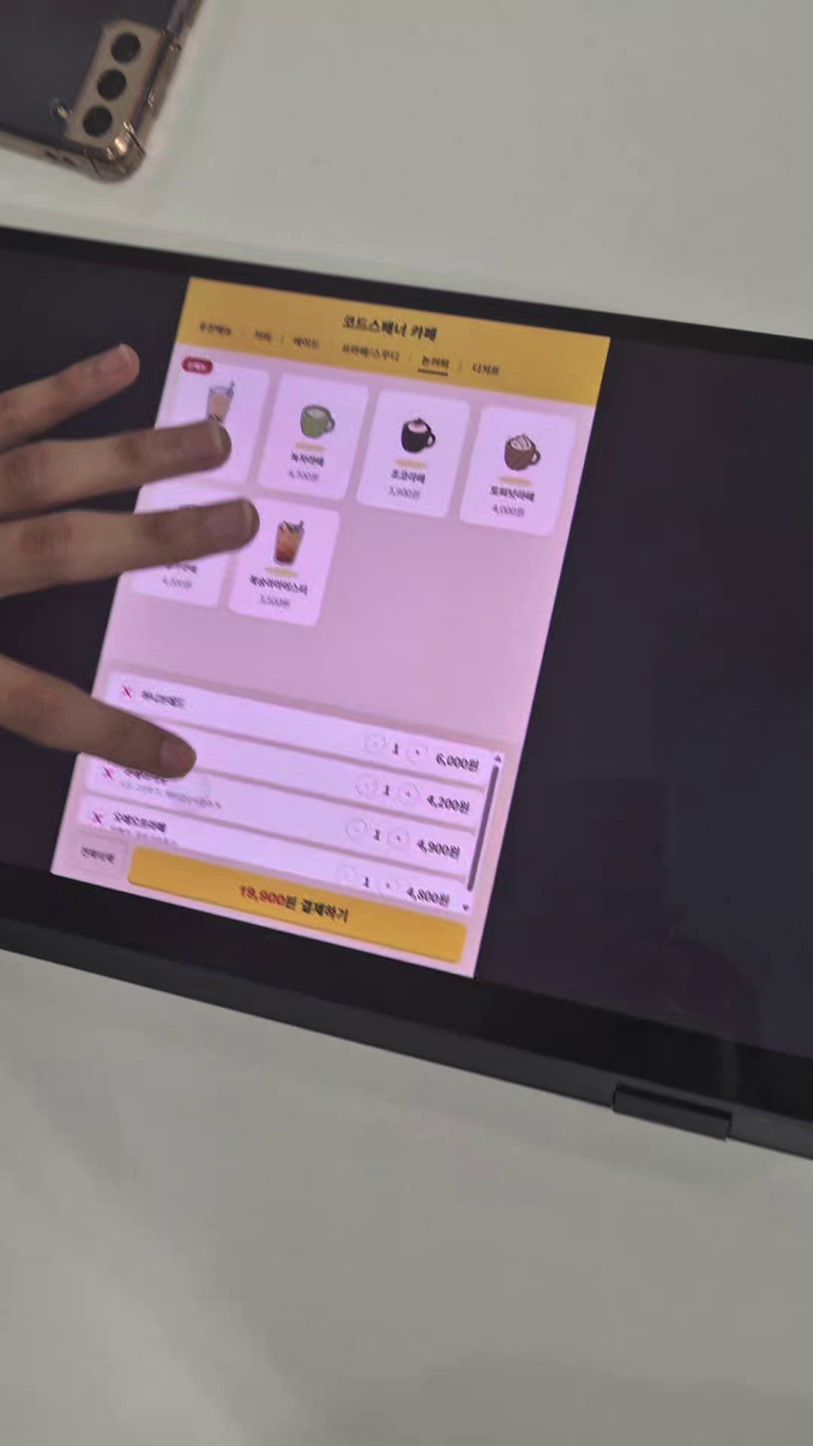action_button: (126, 845, 468, 964), (65, 832, 128, 878)
cart_item: (83, 751, 475, 876), (75, 794, 463, 917), (92, 709, 485, 829), (101, 670, 495, 788)
category_tab: (457, 405, 576, 538), (354, 388, 470, 520), (156, 355, 272, 485), (127, 478, 243, 607), (257, 372, 370, 503), (228, 495, 341, 626), (339, 342, 402, 365), (195, 320, 234, 341), (470, 360, 503, 378), (290, 334, 321, 353), (420, 354, 452, 371), (248, 327, 275, 345)
menu_name: (247, 574, 310, 597), (489, 483, 536, 505), (390, 468, 428, 486), (288, 451, 325, 469)
menu_price: (285, 467, 320, 484), (159, 575, 194, 592), (388, 484, 422, 501), (491, 503, 525, 519), (258, 593, 292, 609)
